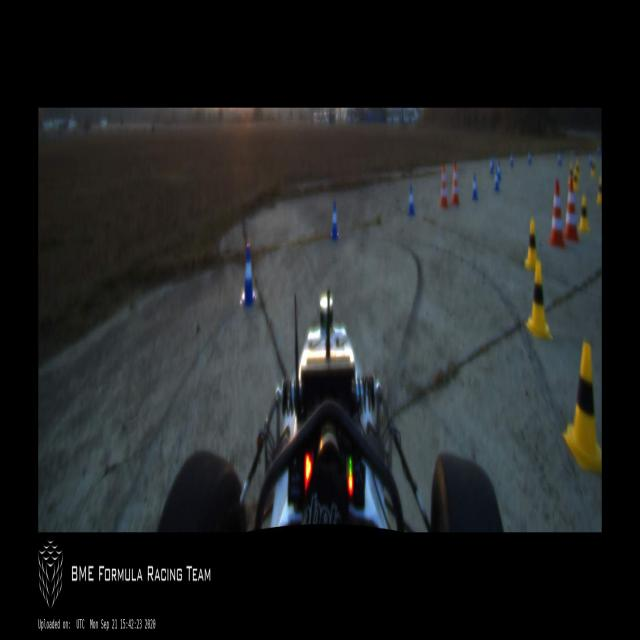blue_cone: (241, 243, 256, 308), (329, 202, 339, 240), (408, 184, 414, 216), (471, 174, 478, 201), (494, 168, 499, 192), (489, 157, 494, 175), (497, 162, 501, 180), (590, 150, 594, 168), (528, 150, 532, 165), (510, 152, 513, 168), (558, 152, 562, 164), (598, 145, 600, 156)
large_orange_cone: (549, 180, 564, 249), (564, 175, 576, 243), (438, 163, 448, 209), (451, 160, 460, 206)
yellow_cone: (562, 342, 601, 474), (526, 262, 552, 341), (526, 219, 538, 268), (578, 195, 589, 232), (596, 178, 602, 204), (575, 158, 580, 178), (574, 168, 578, 192), (592, 159, 595, 176), (570, 164, 572, 178)
